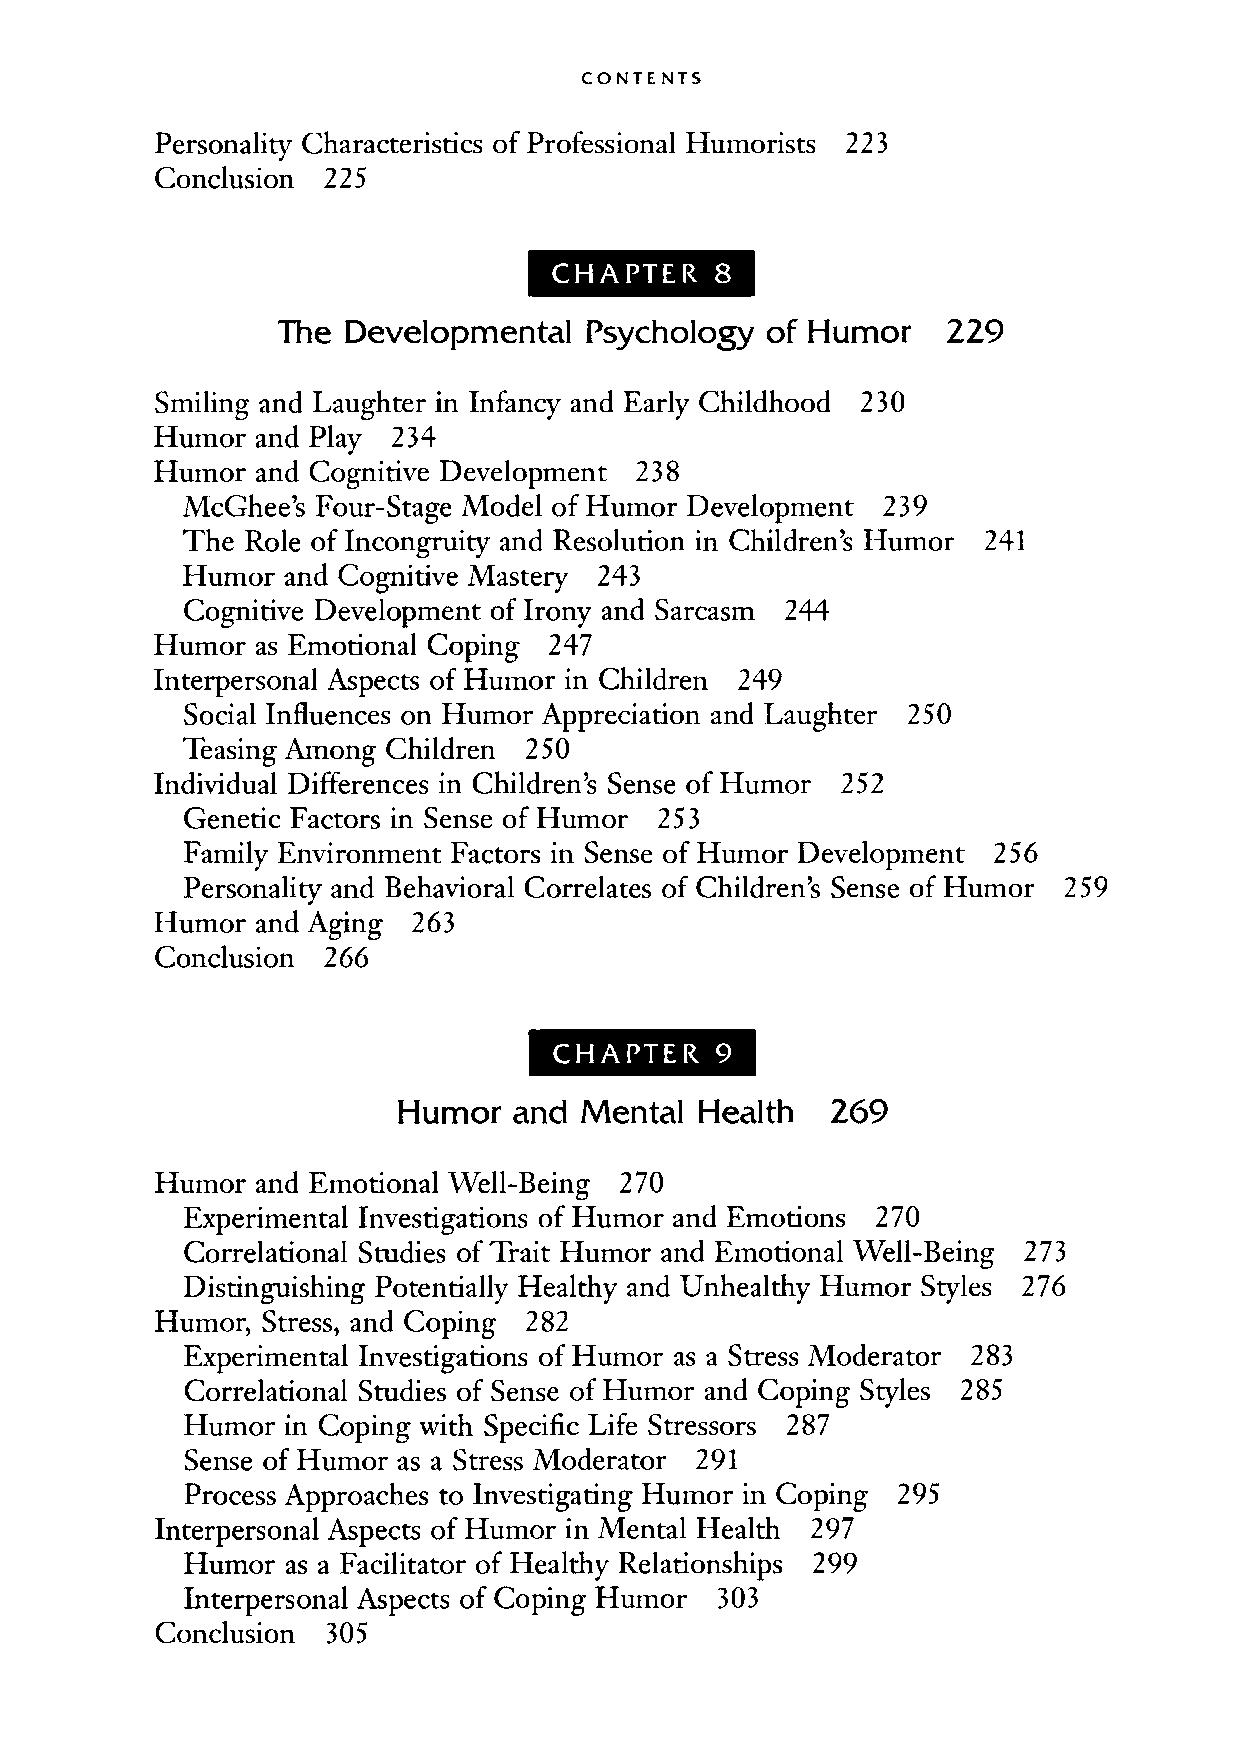TOC_chapter: (264, 306, 919, 358), (180, 871, 1037, 907), (180, 523, 955, 561), (178, 1374, 939, 1412), (178, 1237, 997, 1271), (178, 1274, 997, 1307), (178, 1472, 871, 1510), (185, 697, 884, 733), (183, 839, 968, 871), (150, 118, 823, 156), (150, 764, 819, 801), (153, 377, 833, 413), (178, 1342, 943, 1374), (150, 1511, 786, 1545), (180, 1550, 788, 1584), (153, 1161, 595, 1206), (180, 493, 858, 522), (180, 1206, 852, 1235), (399, 1088, 796, 1135), (180, 592, 758, 624), (148, 663, 713, 695), (180, 1588, 692, 1621), (180, 1413, 756, 1440), (150, 458, 609, 488), (180, 560, 568, 595), (185, 804, 628, 833), (153, 625, 519, 660), (148, 1304, 498, 1339), (180, 1447, 666, 1469), (176, 731, 498, 764), (150, 417, 369, 456), (156, 907, 382, 941), (153, 157, 368, 191), (153, 1618, 301, 1653), (148, 942, 297, 974)
TOC_pagenumber: (939, 297, 1006, 361), (1015, 1223, 1074, 1264), (1062, 866, 1118, 909), (825, 1088, 891, 1125), (981, 514, 1035, 557), (862, 1198, 935, 1227), (992, 829, 1041, 871), (613, 1166, 676, 1198), (900, 692, 958, 727), (1015, 1270, 1072, 1304), (860, 381, 913, 419), (894, 1475, 943, 1511), (841, 123, 892, 158), (809, 1511, 862, 1543), (809, 1547, 862, 1580), (837, 768, 888, 800), (735, 663, 784, 697), (386, 420, 440, 450), (542, 625, 596, 655), (586, 562, 644, 589), (784, 592, 829, 624), (631, 458, 683, 484), (878, 488, 930, 515), (960, 1372, 1001, 1404), (523, 734, 573, 761), (970, 1341, 1019, 1368), (782, 1410, 829, 1437), (695, 1445, 738, 1472), (521, 1304, 569, 1327), (658, 804, 701, 829), (318, 1621, 368, 1643), (717, 1588, 757, 1612)
chapter: (574, 66, 709, 93)
